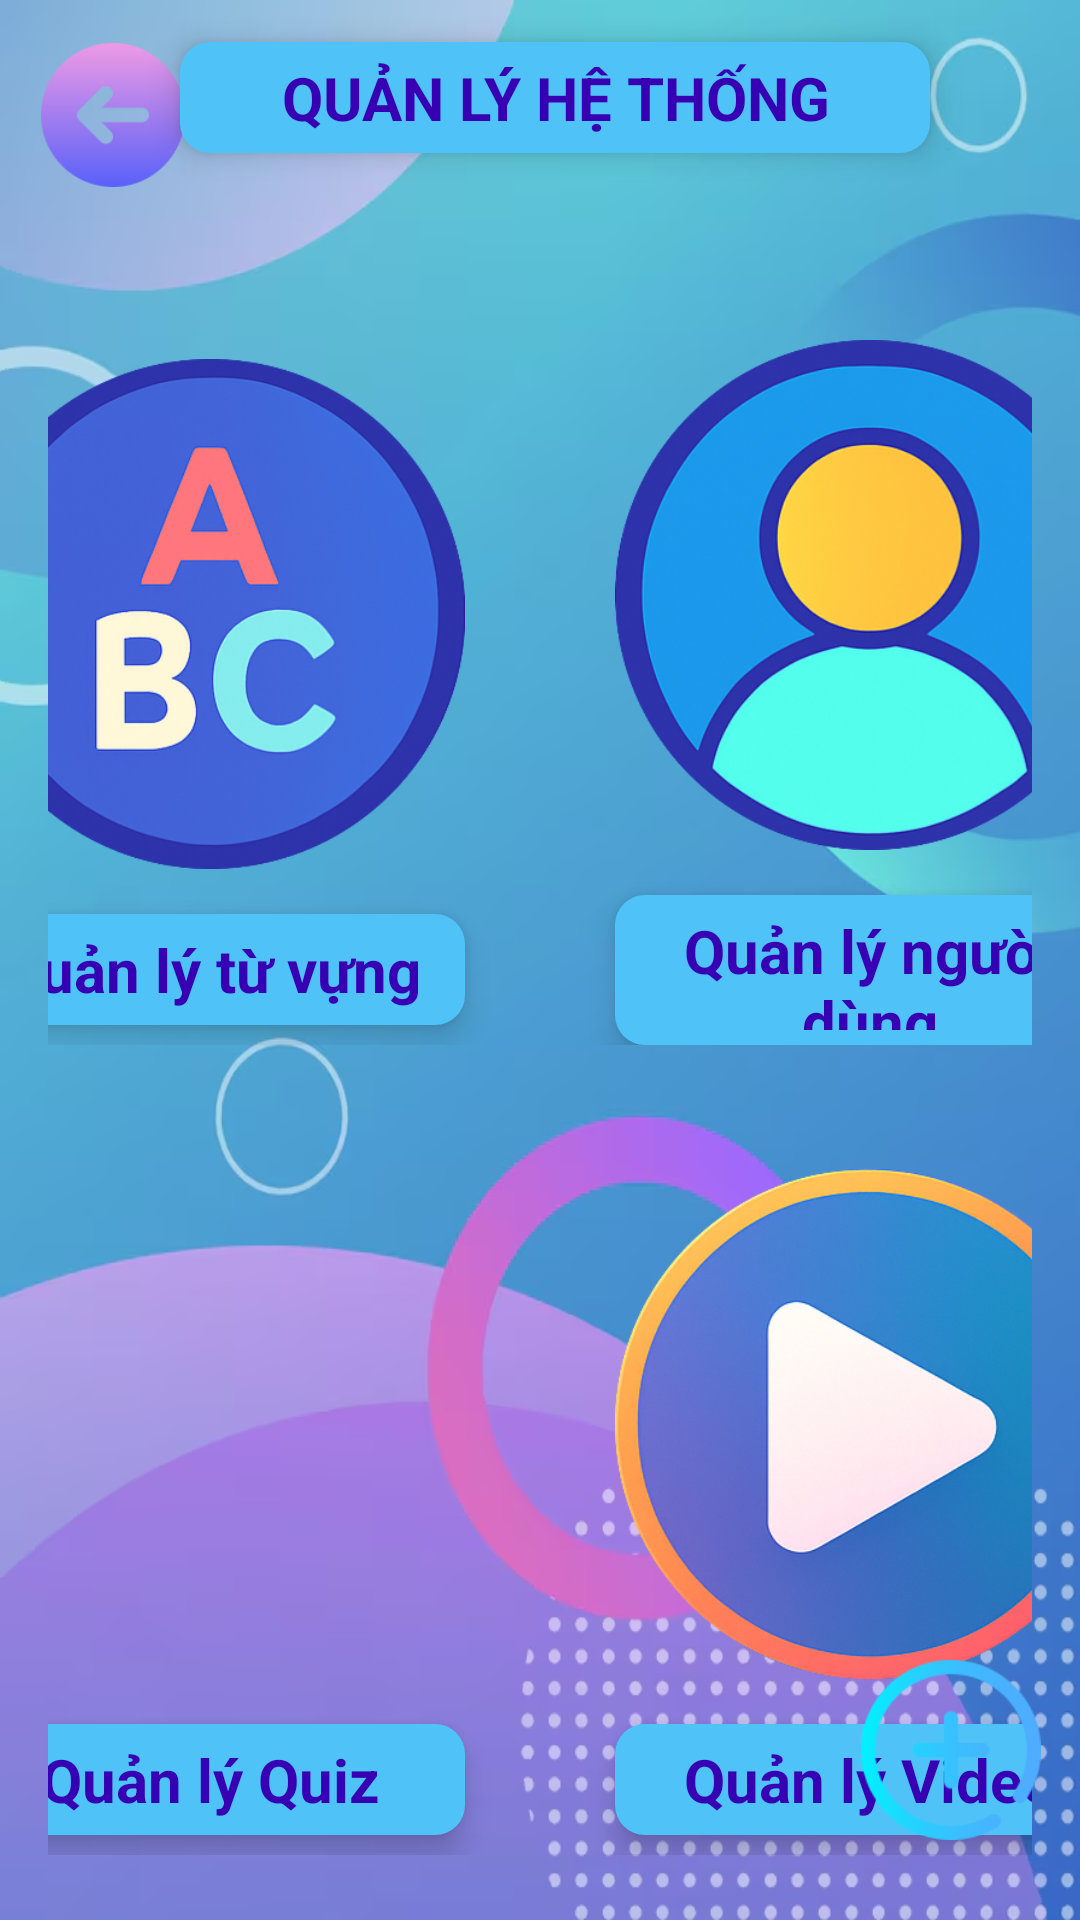

Where icons sit on this 1080×1920 app screen, as (x1, y1, x2, y2):
Trở về: (41, 43, 185, 187)
